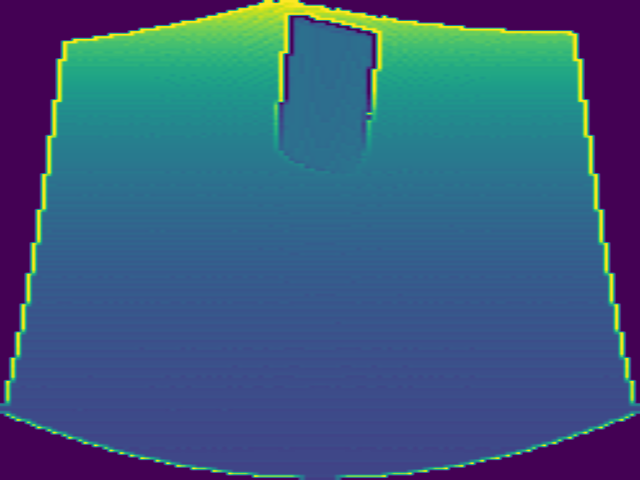cylinder: (274, 15, 382, 173)
